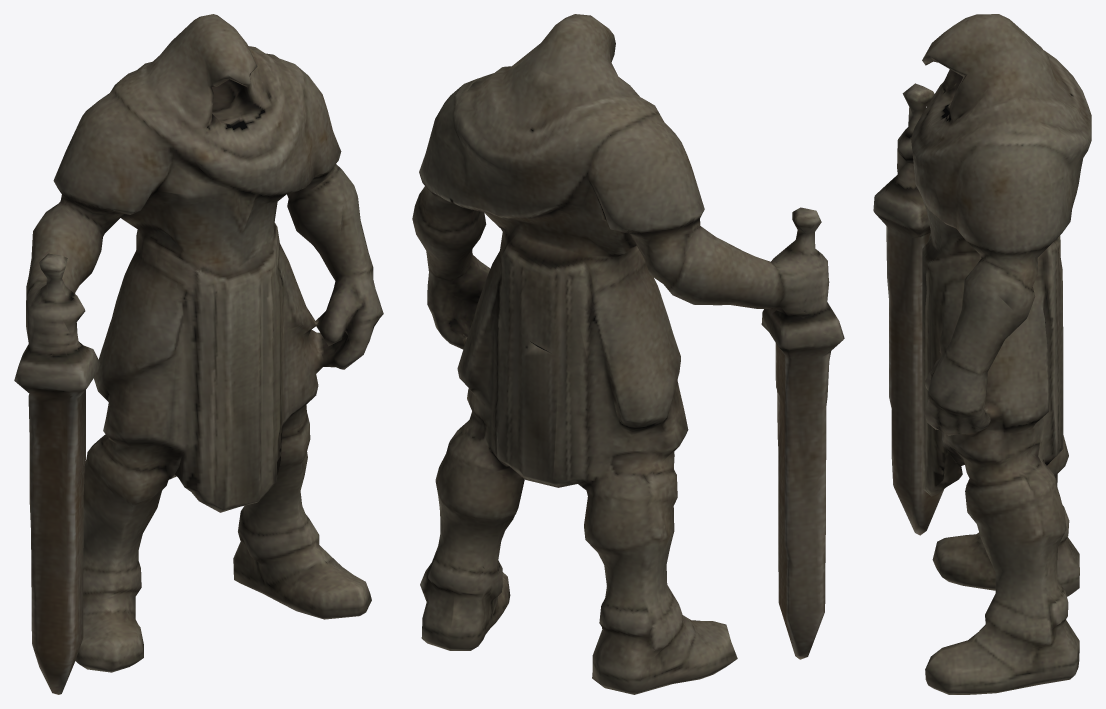
The model's file is blood_sentinel_v1.glb.
3 views of the same model, side by side, from view 1: azimuth 30°, elevation 25°; view 2: azimuth 150°, elevation 25°; view 3: azimuth 270°, elevation 25° (orthographic). The views are drawn at different scales.
Visible parts, largest first — view 1: blood-sentinel-m0q-4000; view 2: blood-sentinel-m0q-4000; view 3: blood-sentinel-m0q-4000.
Part boxes in pixels (<box>): blood-sentinel-m0q-4000: <box>14,14,383,694</box>; blood-sentinel-m0q-4000: <box>412,14,844,694</box>; blood-sentinel-m0q-4000: <box>873,14,1091,694</box>.
Size of the model in its own units: 0.6658 by 1 by 0.3236.
1 material, 1 textured.
